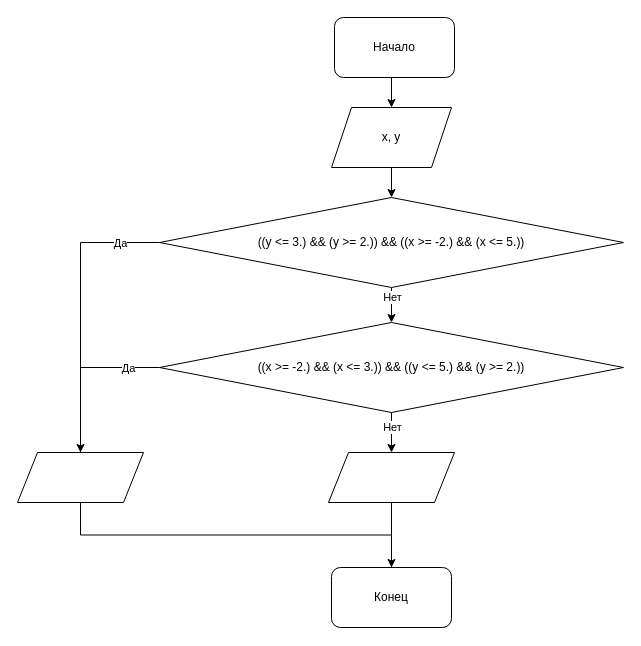
The diagram is 641 pixels wide and 646 high, and some of its shapes have lost their labels. The centre of each missing label's shape, as x and y in pixels:
"Точка вне заштрихованной области" belongs at pixel 391 477.
"Точка входит в заштрихованную область" belongs at pixel 80 477.
